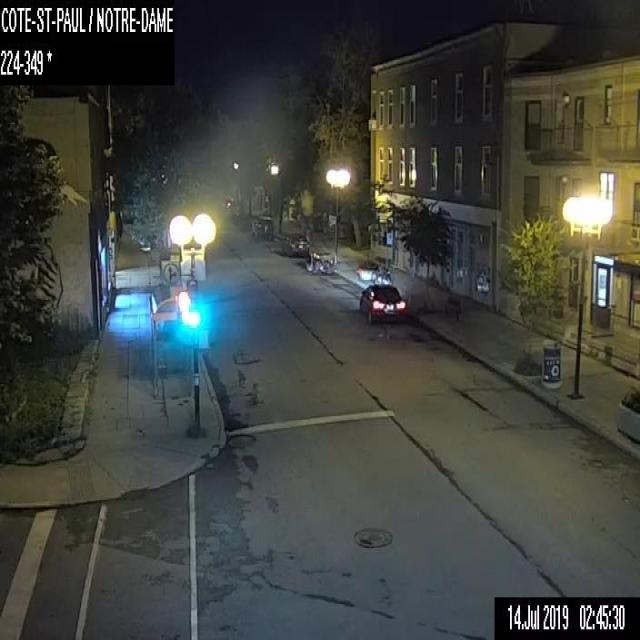vehicle: (358, 282, 406, 324), (281, 231, 309, 258), (305, 250, 336, 274), (251, 214, 273, 240)
